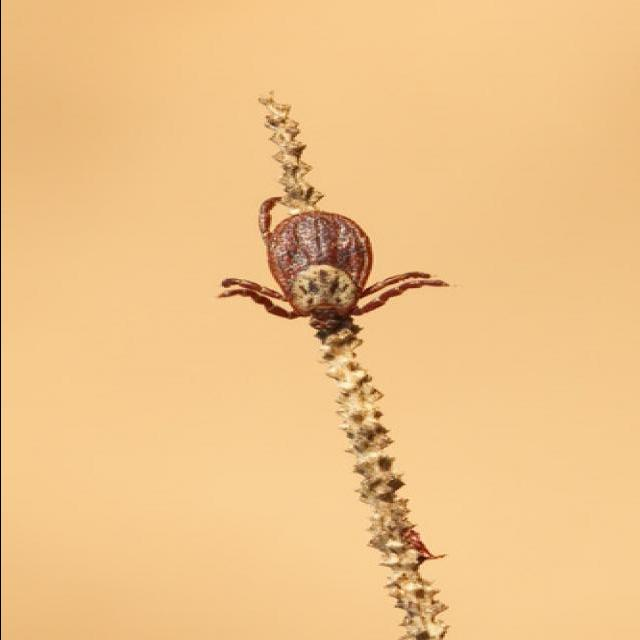Dermacentor Reticulatus-F: (215, 196, 450, 348)
